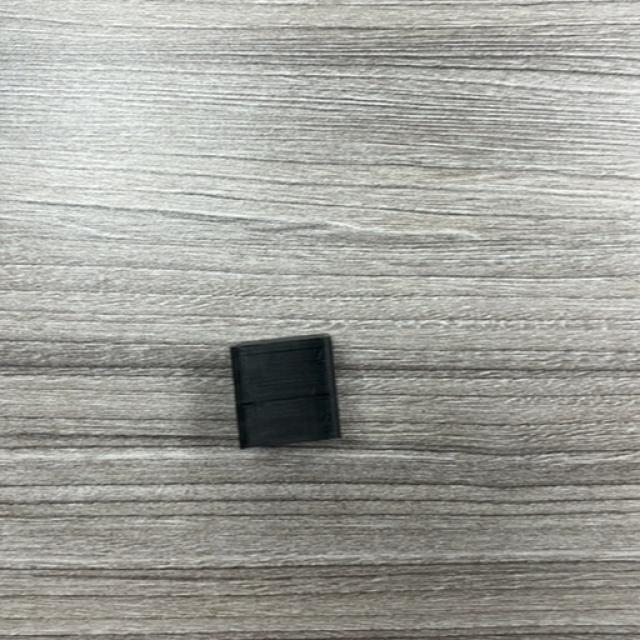Negro: (230, 335, 342, 450)
